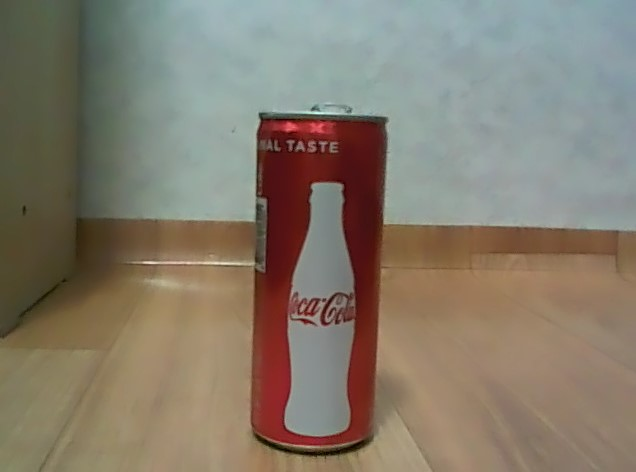Can: (245, 97, 393, 461)
